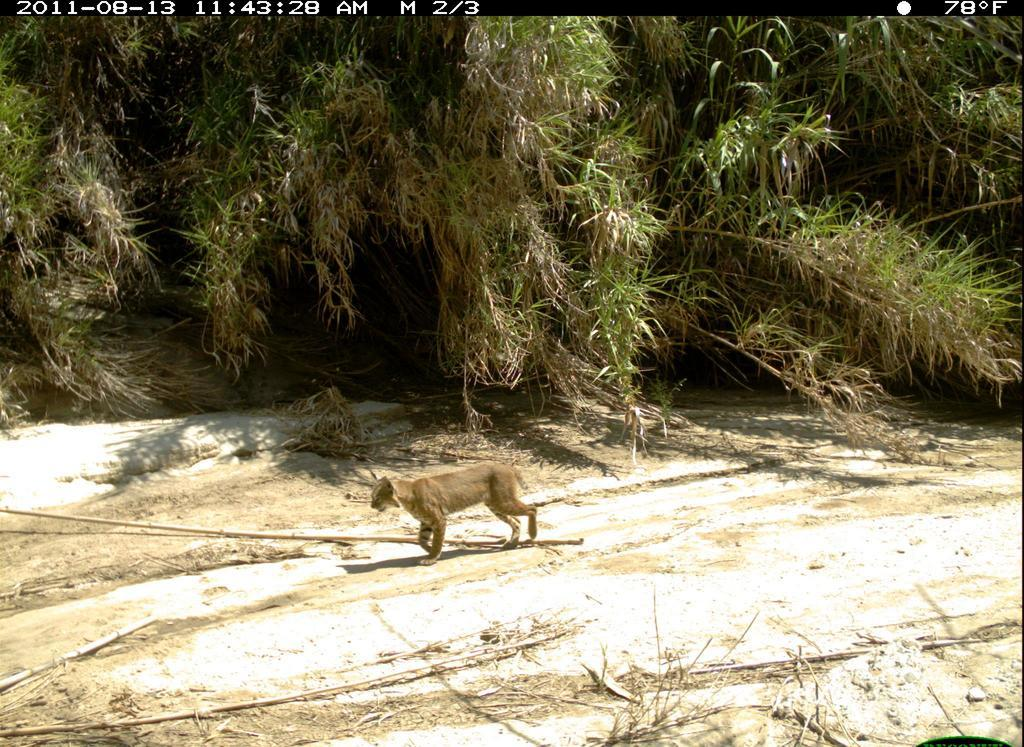bobcat: (364, 460, 543, 569)
